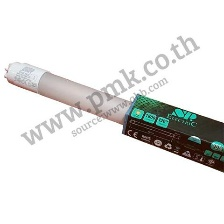carton: (113, 91, 223, 178)
light_bulb: (2, 56, 223, 177)
